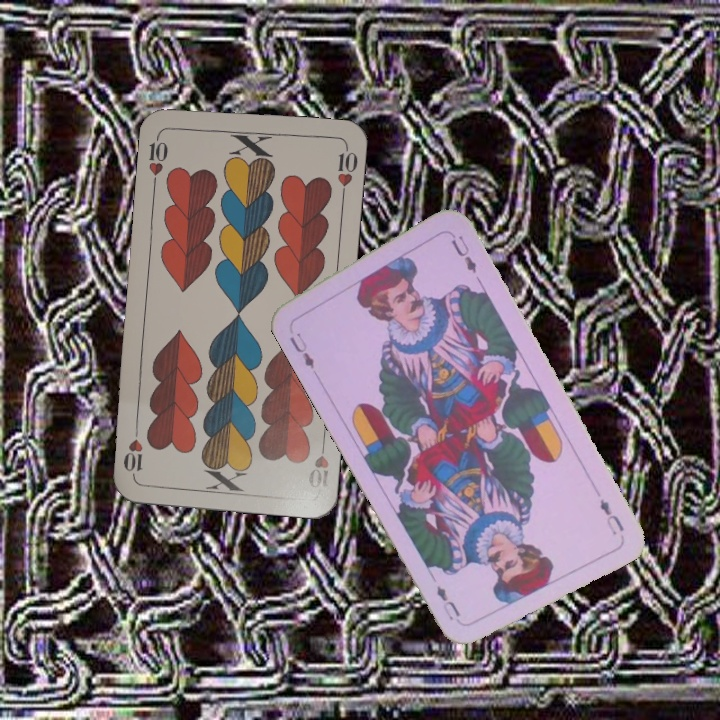EU: (285, 328, 318, 372), (595, 495, 627, 538)
H10: (144, 129, 171, 188), (304, 434, 331, 491)
